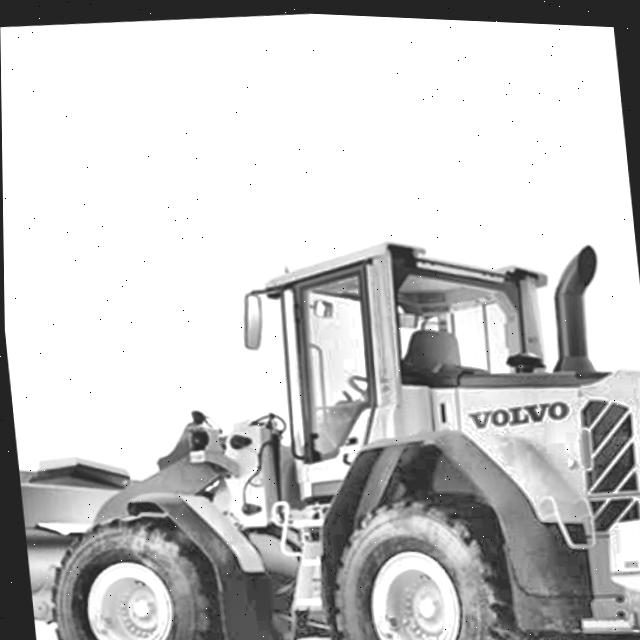buldozerpayloadergrader: (2, 200, 640, 640)
